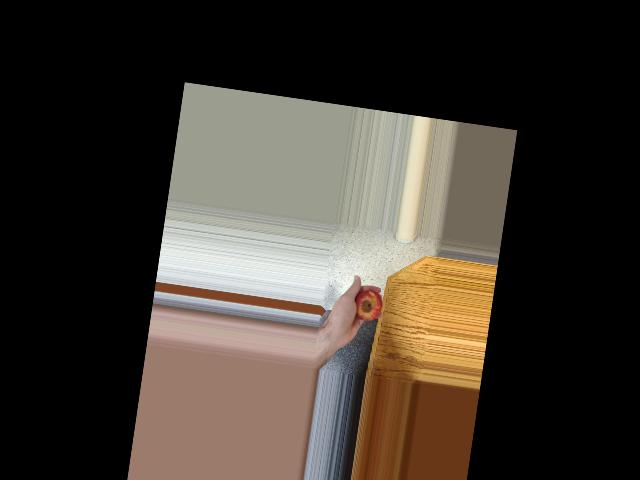apple: (349, 286, 384, 327)
